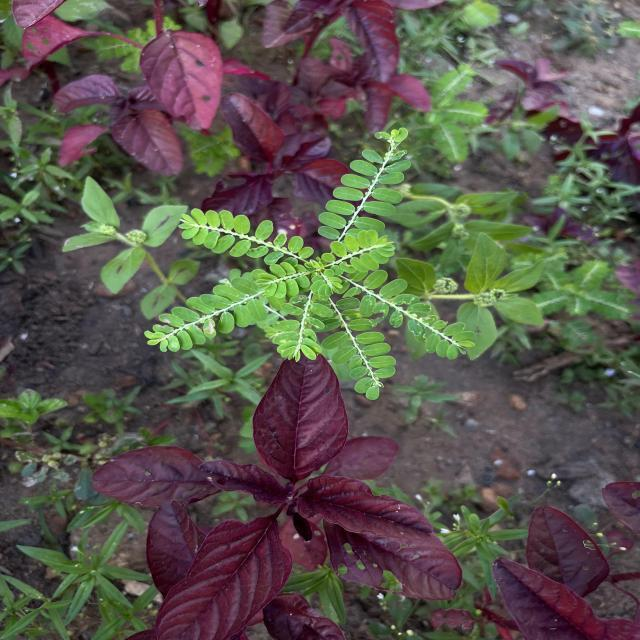Phyllanthus niruri: (336, 268, 478, 360), (315, 125, 411, 241), (141, 277, 268, 354), (316, 298, 399, 400), (178, 206, 314, 268), (271, 296, 335, 362), (324, 230, 396, 276)
